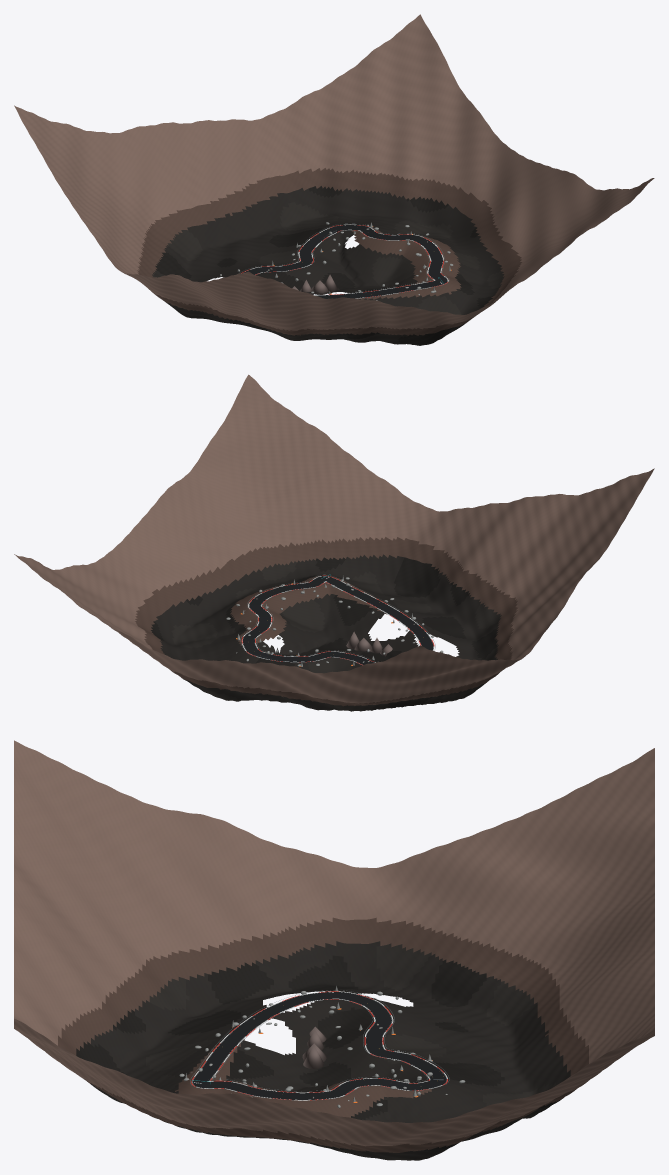
File: ember_crater.glb
3 views of the same model, one above another, from view 1: azimuth 30°, elevation 25°; view 2: azimuth 150°, elevation 25°; view 3: azimuth 270°, elevation 25° (orthographic). The views are drawn at different scales.
Parts seen in each view (by area): view 1: ember_crater - Blender Mountain Course.011 - Combined Blende; view 2: ember_crater - Blender Mountain Course.011 - Combined Blende; view 3: ember_crater - Blender Mountain Course.011 - Combined Blende.
Boxes of the visible parts, x1,y1,x2,y2 form: ember_crater - Blender Mountain Course.011 - Combined Blende: [14, 14, 654, 345]; ember_crater - Blender Mountain Course.011 - Combined Blende: [14, 374, 654, 711]; ember_crater - Blender Mountain Course.011 - Combined Blende: [14, 740, 654, 1160].
Size of the model in its own units: 907 by 322 by 907.
Materials: 24 (6 with a texture image).
